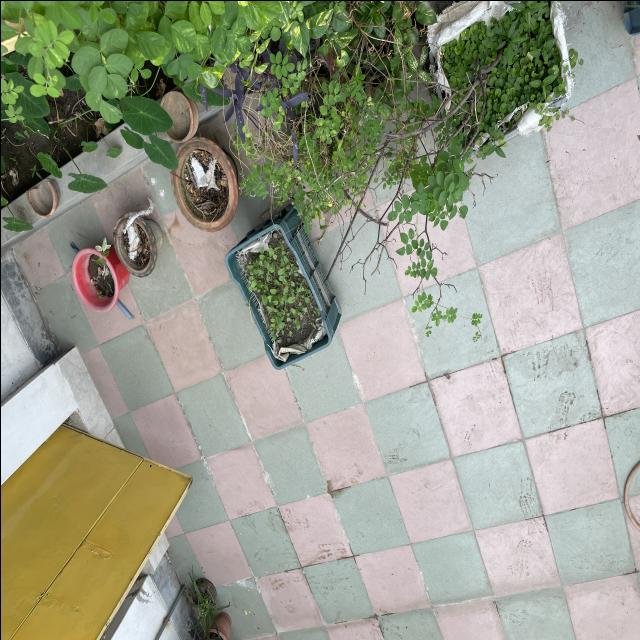Breeding Place: (223, 216, 337, 370), (170, 136, 244, 228), (70, 248, 128, 300), (118, 200, 156, 276), (152, 92, 196, 141), (22, 178, 58, 213)
